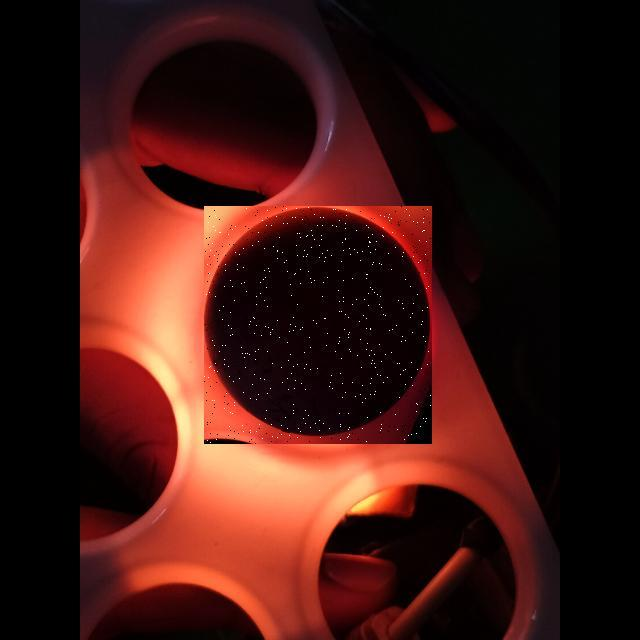Fertile: (204, 206, 432, 444)
